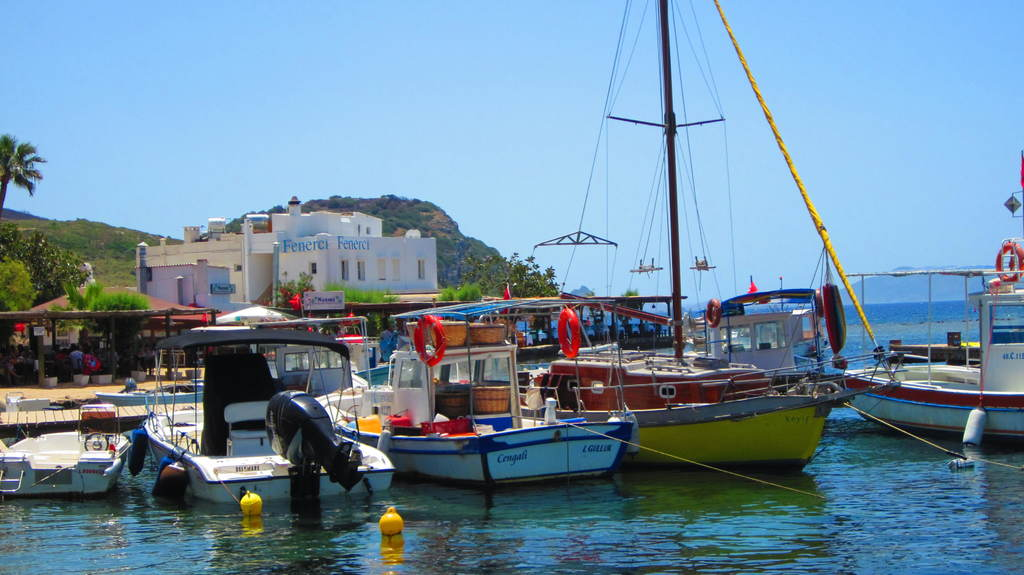boat: (133, 305, 402, 520), (341, 300, 630, 491), (835, 254, 1024, 440), (560, 387, 859, 484), (1, 384, 150, 518)
